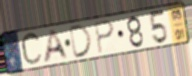5: (146, 9, 169, 46)
8: (126, 15, 144, 49)
A: (42, 29, 70, 65)
C: (19, 30, 44, 69)
D: (68, 23, 94, 61)
P: (92, 19, 116, 56)
